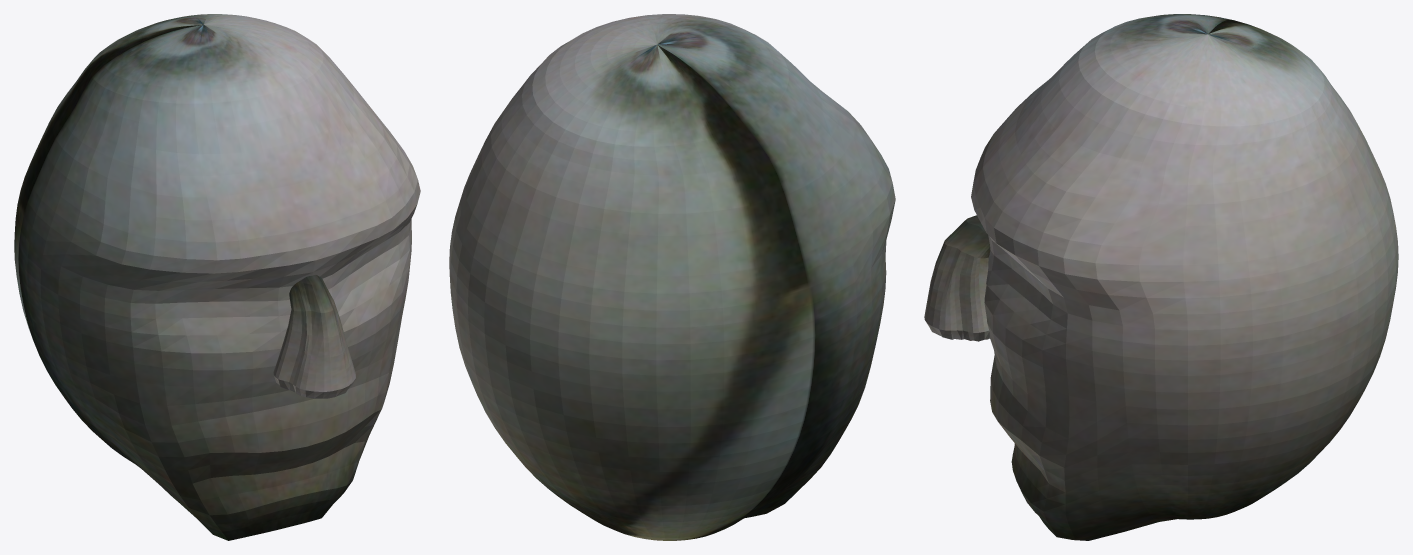
File: head.FBX
3 renders of one model, left to right at view 1: azimuth 30°, elevation 25°; view 2: azimuth 150°, elevation 25°; view 3: azimuth 270°, elevation 25°, orthographic. The views are drawn at different scales.
Parts seen in each view (by area): view 1: pSphere2; view 2: pSphere2; view 3: pSphere2.
Boxes of the visible parts, left/top/right/bottom form: pSphere2: left=14, top=14, right=420, bottom=540; pSphere2: left=449, top=14, right=895, bottom=540; pSphere2: left=924, top=14, right=1398, bottom=540.
Bounding box in the file's own units: 19.69 × 25.12 × 22.16.
Materials: 1 (1 with a texture image).
